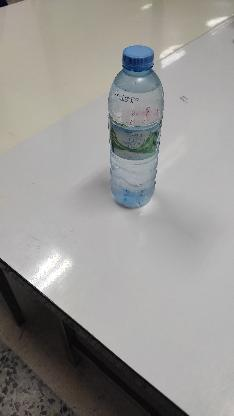Plastic Bottle: (105, 43, 165, 212)
